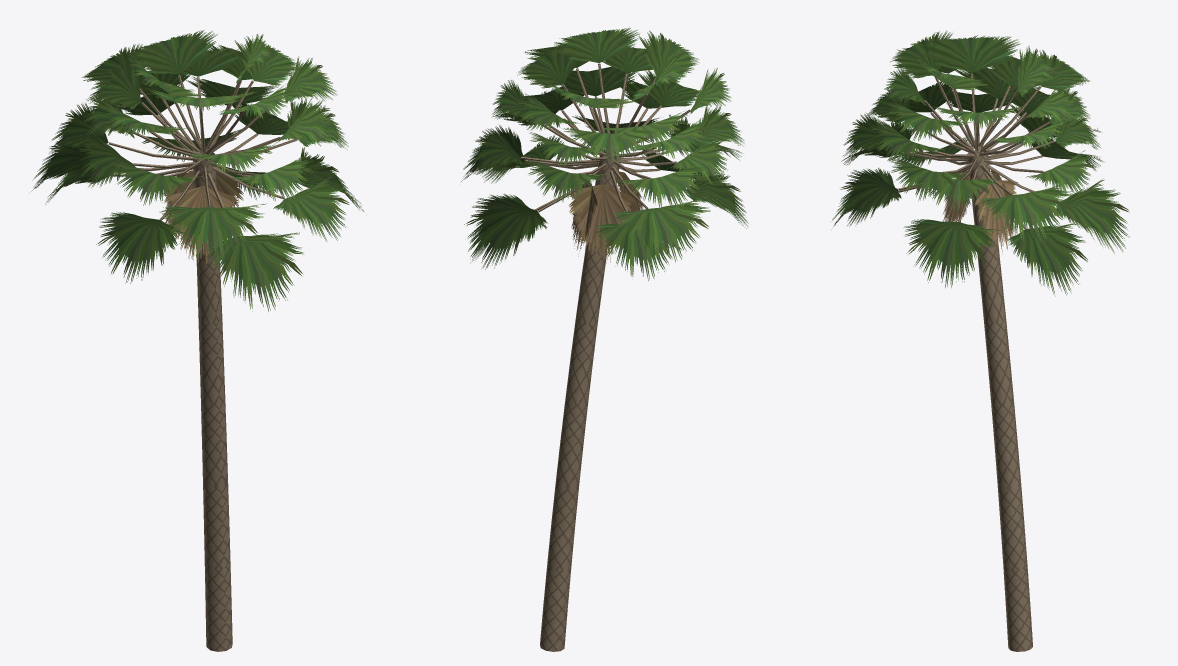
Rendered from veg_sabal_palm_a.fbx.
3 renders of one model, left to right at view 1: azimuth 30°, elevation 25°; view 2: azimuth 150°, elevation 25°; view 3: azimuth 270°, elevation 25°, orthographic. The views are drawn at different scales.
Parts seen in each view (by area): view 1: veg_sabal_palm_a_LOD0; view 2: veg_sabal_palm_a_LOD0; view 3: veg_sabal_palm_a_LOD0.
Boxes of the visible parts, x1=… form: veg_sabal_palm_a_LOD0: x1=31, y1=30, x2=363, y2=651; veg_sabal_palm_a_LOD0: x1=461, y1=27, x2=748, y2=651; veg_sabal_palm_a_LOD0: x1=832, y1=30, x2=1129, y2=651.
Size of what is drawn, in the model's own units: 6.31 by 11.35 by 6.3.
Materials: 2 (2 with a texture image).
